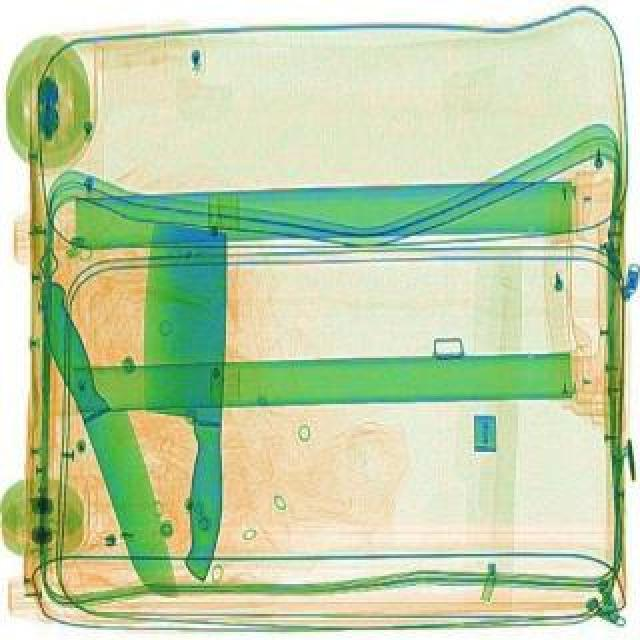knife: (30, 268, 178, 606), (126, 216, 256, 584)
